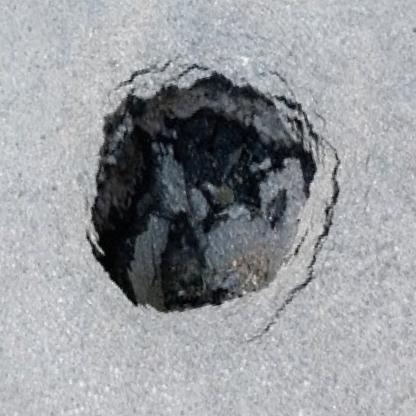pothole: (47, 27, 363, 341)
